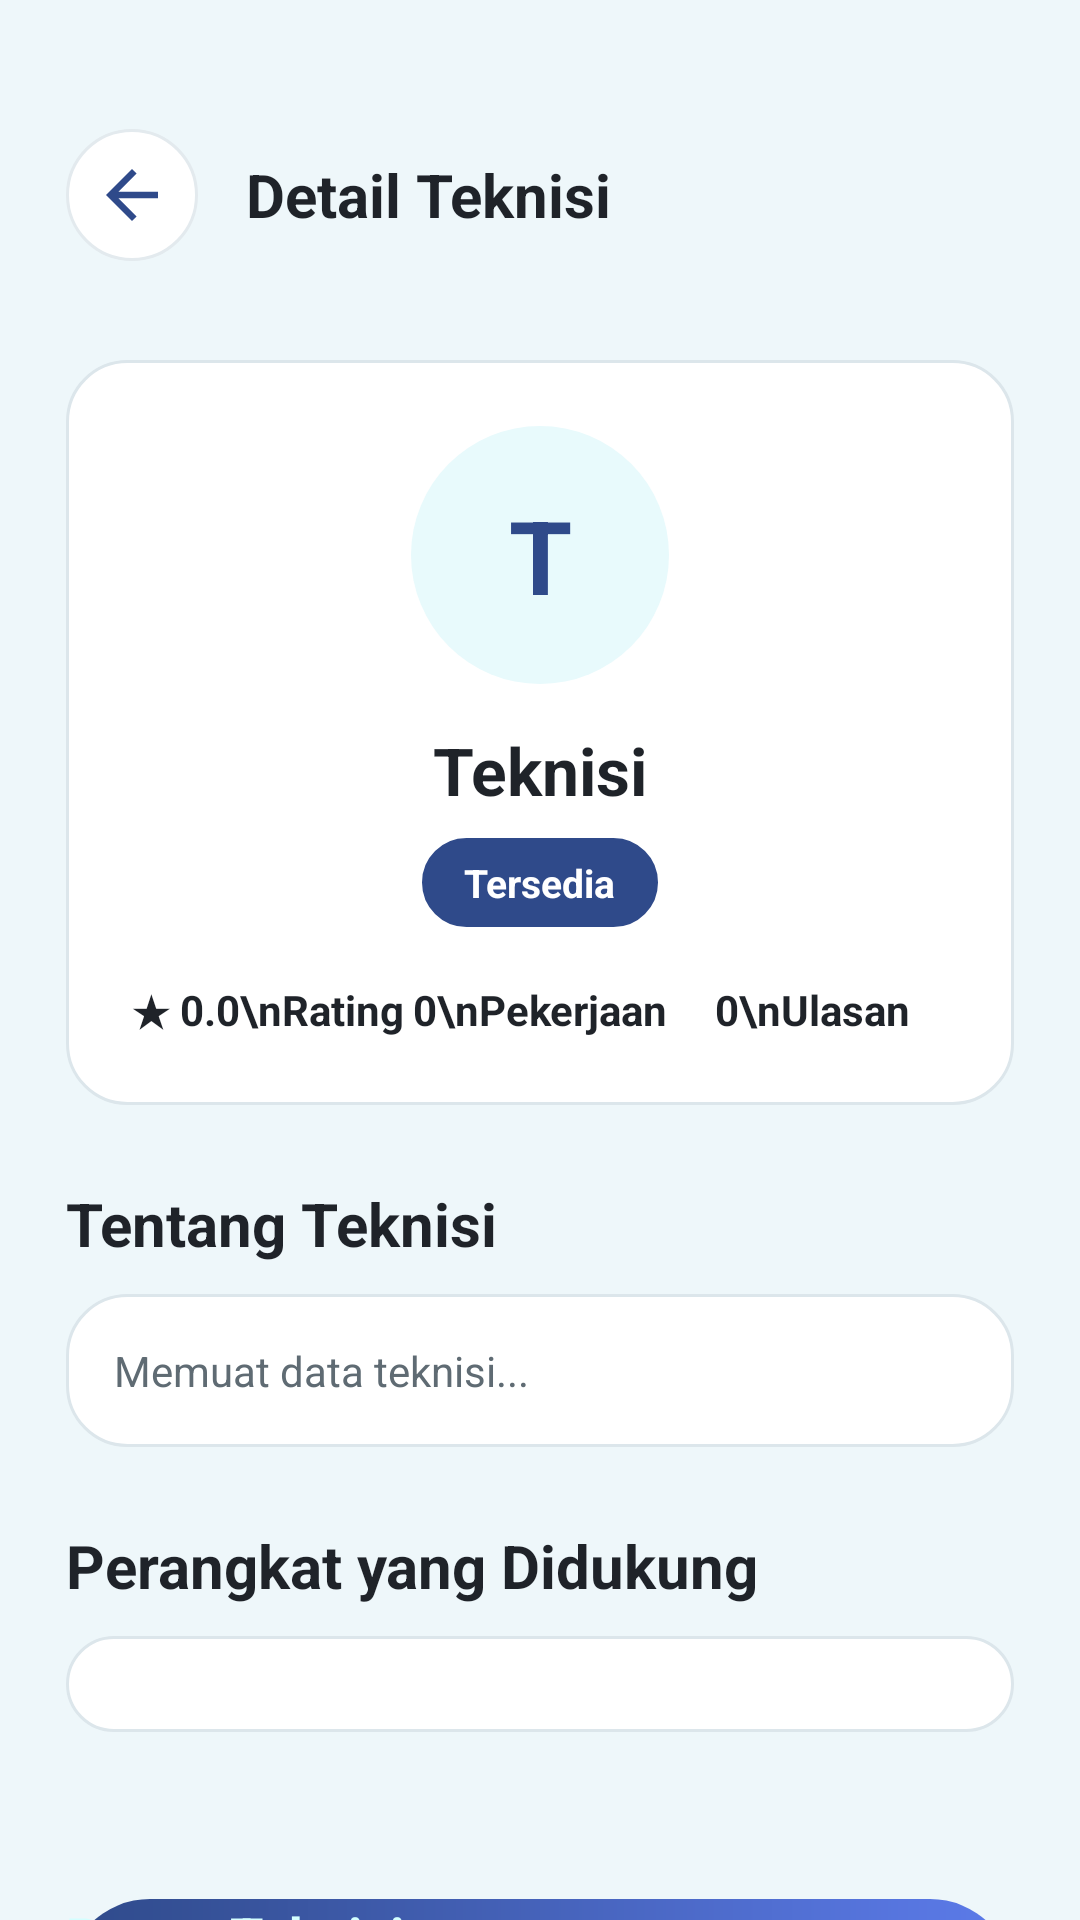

Where icons sit on this 1080w x 1920h app screen, as (x1, y1, x2, y2):
back: (106, 169, 158, 221)
